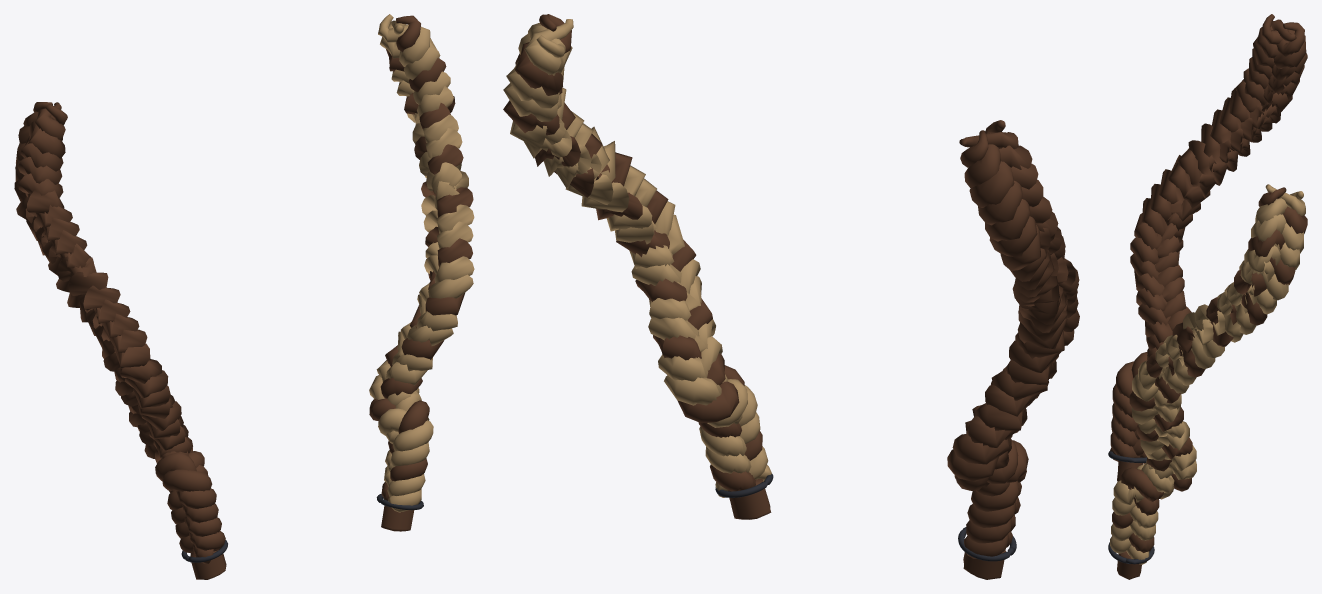
The model's file is Highlights-da22352bd8c0251-hair.glb.
The picture shows the model from 3 angles, left to right: view 1: azimuth 30°, elevation 25°; view 2: azimuth 150°, elevation 25°; view 3: azimuth 270°, elevation 25°; orthographic projection. The views are drawn at different scales.
Visible parts, largest first — view 1: 226 hairLengths / Hair / chestnut226, 226 hairLengths / Hair / ties226; view 2: 226 hairLengths / Hair / chestnut226, 226 hairLengths / Hair / ties226; view 3: 226 hairLengths / Hair / chestnut226, 226 hairLengths / Hair / ties226.
Boxes of the visible parts, x1=… form: 226 hairLengths / Hair / chestnut226: x1=14, y1=14, x2=474, y2=579; 226 hairLengths / Hair / ties226: x1=181, y1=494, x2=423, y2=562; 226 hairLengths / Hair / chestnut226: x1=503, y1=14, x2=1079, y2=579; 226 hairLengths / Hair / ties226: x1=715, y1=474, x2=1016, y2=561; 226 hairLengths / Hair / chestnut226: x1=1110, y1=14, x2=1307, y2=579; 226 hairLengths / Hair / ties226: x1=1108, y1=451, x2=1154, y2=564.
Bounding box in the file's own units: 1.09 × 1.06 × 0.4447.
